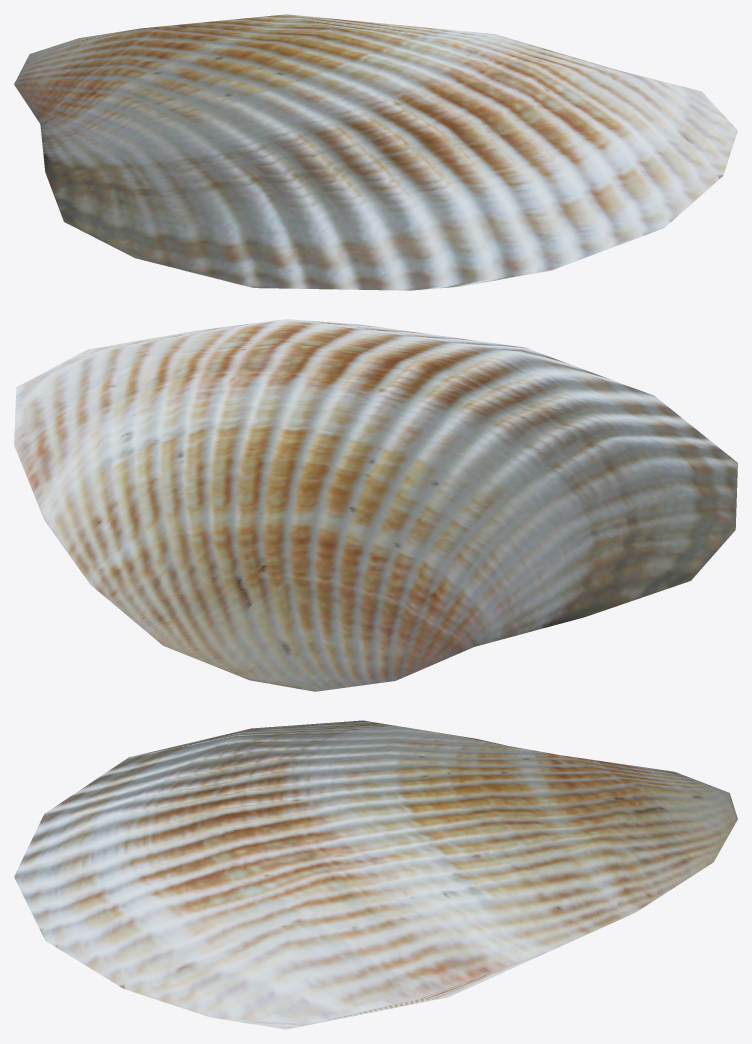
File: SeaShell-15_LOD0_FattooCreater.glb
3 renders of one model, top to bottom at view 1: azimuth 30°, elevation 25°; view 2: azimuth 150°, elevation 25°; view 3: azimuth 270°, elevation 25°, orthographic. The views are drawn at different scales.
Visible parts, largest first — view 1: SeaShell-15_high; view 2: SeaShell-15_high; view 3: SeaShell-15_high.
Boxes of the visible parts, box(x1,y1,x2,y2) form: SeaShell-15_high: box(14, 14, 737, 290); SeaShell-15_high: box(14, 319, 737, 691); SeaShell-15_high: box(14, 720, 737, 1029).
Bounding box in the file's own units: 0.023 × 0.00526 × 0.0232.
Materials: 1 (1 with a texture image).
